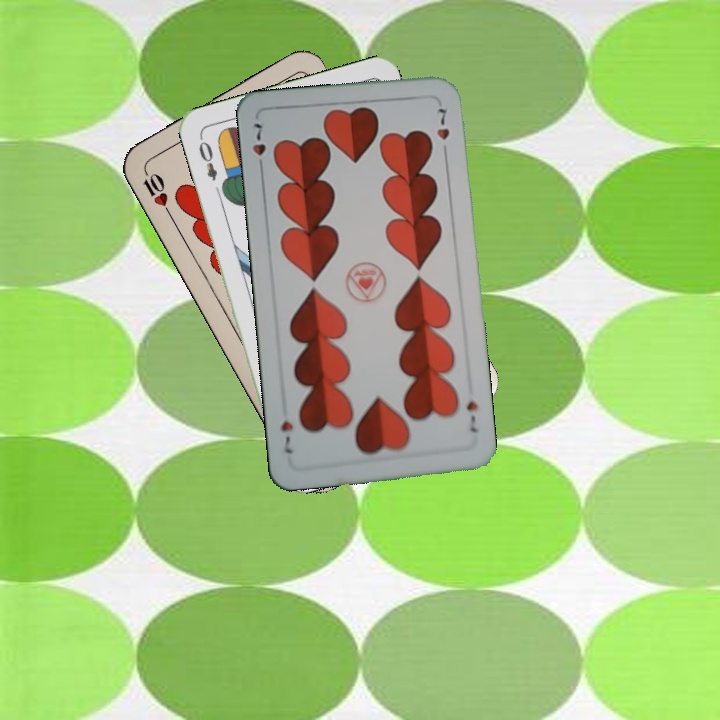EO: (194, 132, 220, 183)
H10: (139, 164, 175, 218)
H7: (248, 119, 268, 175), (462, 397, 482, 435)
